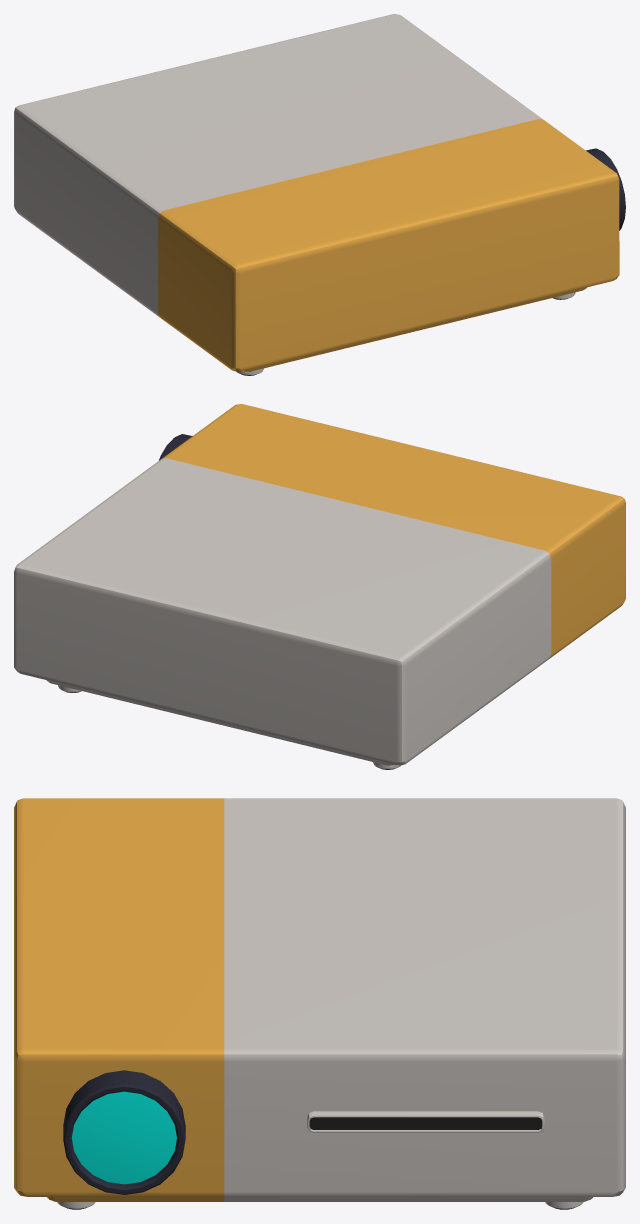
Rendered from lvl2_projector.fbx.
The picture shows the model from 3 angles, top to bottom: view 1: azimuth 30°, elevation 25°; view 2: azimuth 150°, elevation 25°; view 3: azimuth 270°, elevation 25°; orthographic projection. The views are drawn at different scales.
Visible parts, largest first — view 1: pCube1, pCylinder1; view 2: pCube1; view 3: pCube1, pCylinder3, pCube2, pCylinder1.
Part boxes in pixels (<box>): pCube1: <box>14,14,619,372</box>; pCylinder1: <box>586,148,625,230</box>; pCube1: <box>14,404,625,766</box>; pCube1: <box>14,798,625,1201</box>; pCylinder3: <box>71,1091,176,1184</box>; pCube2: <box>307,1111,544,1133</box>; pCylinder1: <box>63,1070,185,1194</box>.
Bounding box in the file's own units: 31.73 × 9.56 × 30.
